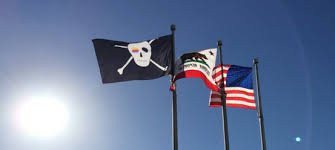Jolly Roger Flag: (90, 32, 174, 85)
